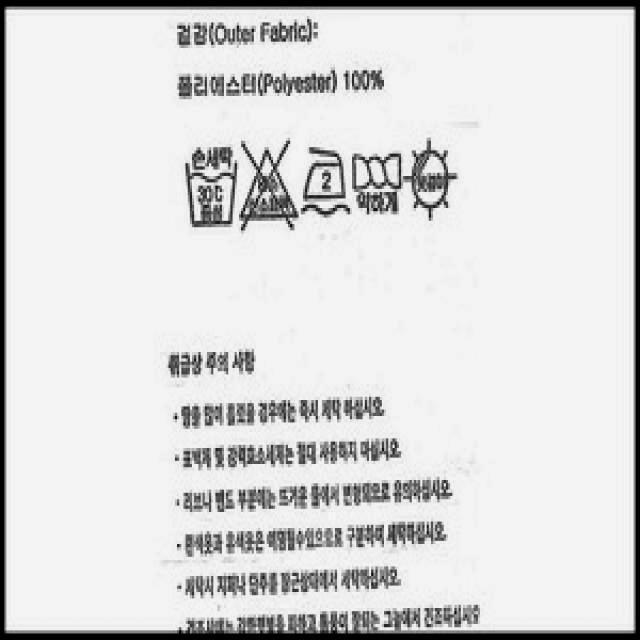DN_bleach: (238, 135, 302, 235)
hand_wash: (179, 138, 242, 235)
iron_medium: (300, 146, 351, 219)
line_dry_in_shade: (407, 140, 462, 219)
wring: (352, 149, 405, 219)
